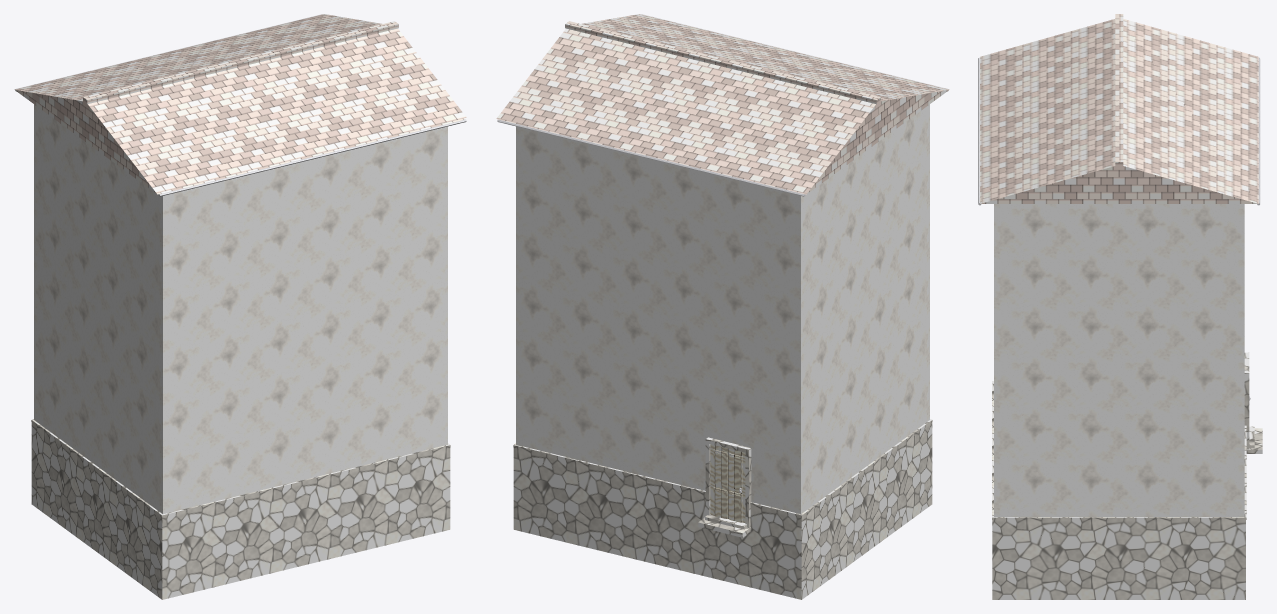
The picture shows the model from 3 angles, left to right: view 1: azimuth 30°, elevation 25°; view 2: azimuth 150°, elevation 25°; view 3: azimuth 270°, elevation 25°; orthographic projection. The views are drawn at different scales.
Parts seen in each view (by area): view 1: b1084716813; view 2: b1084716813; view 3: b1084716813.
Part boxes in pixels (<box>): b1084716813: <box>14,14,467,599</box>; b1084716813: <box>496,14,949,599</box>; b1084716813: <box>978,14,1262,599</box>.
Size of the model in its own units: 8.66 by 12.12 by 7.04.
11 materials, 11 textured.
